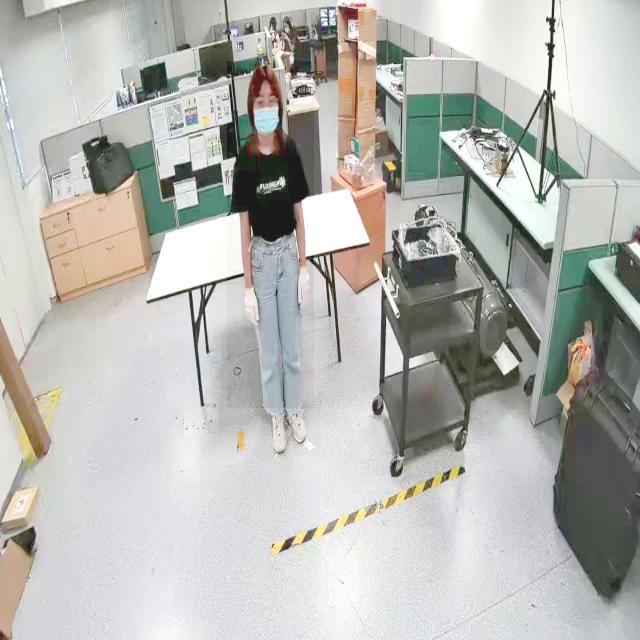face_mask: (248, 97, 284, 141)
hand_glove: (294, 260, 314, 316), (241, 277, 261, 331)
head_nohelmet: (249, 63, 279, 85), (282, 14, 290, 22)
person: (227, 61, 315, 409)
shoes: (265, 393, 289, 458), (284, 394, 310, 451)
